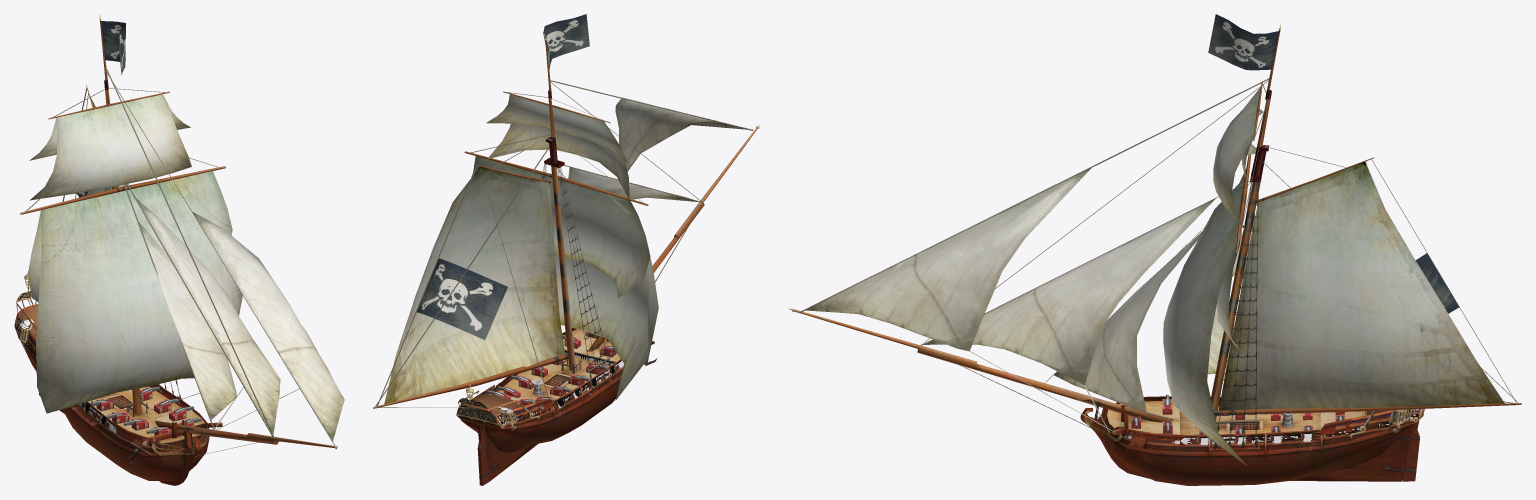
File: sloop1.glb
3 renders of one model, left to right at view 1: azimuth 30°, elevation 25°; view 2: azimuth 150°, elevation 25°; view 3: azimuth 270°, elevation 25°, orthographic. The views are drawn at different scales.
Parts seen in each view (by area): view 1: sail_hull_66_component_00, sail_hull_72_component_00, sail_hull_70_component_00, hull_hull_74, sail_hull_37_component_00, sail_hull_37_component_01, sail_hull_37_component_03, hull_hull_94, sail_hull_68_component_00, sail_furled_hull_44_component_00, flag_hull_102_component_01, sail_hull_112_component_00 (+5 smaller); view 2: sail_hull_31_component_00, hull_hull_74, sail_hull_66_component_00, sail_furled_hull_44_component_00, flag_hull_102_component_00, sail_hull_37_component_00, sail_furled_hull_49_component_00, sail_furled_hull_59_component_00, sail_hull_68_component_00, sail_hull_70_component_00, hull_hull_94, flag_hull_102_component_01 (+10 smaller); view 3: sail_hull_31_component_00, hull_hull_74, sail_hull_37_component_00, sail_hull_37_component_01, sail_hull_72_component_00, sail_hull_37_component_03, hull_hull_94, sail_hull_66_component_00, flag_hull_102_component_01, native_hull_21_component_00, sail_hull_70_component_00, native_hull_81_component_05 (+5 smaller).
Part boxes in pixels (left/top/right/bottom): sail_hull_66_component_00: left=36, top=191, right=242, bottom=386; sail_hull_72_component_00: left=36, top=171, right=242, bottom=413; sail_hull_70_component_00: left=30, top=95, right=188, bottom=200; hull_hull_74: left=14, top=304, right=209, bottom=485; sail_hull_37_component_00: left=192, top=211, right=344, bottom=441; sail_hull_37_component_01: left=136, top=198, right=280, bottom=437; sail_hull_37_component_03: left=139, top=222, right=236, bottom=419; hull_hull_94: left=16, top=291, right=337, bottom=449; sail_hull_68_component_00: left=30, top=102, right=191, bottom=199; sail_furled_hull_44_component_00: left=27, top=203, right=232, bottom=301; flag_hull_102_component_01: left=101, top=21, right=125, bottom=75; sail_hull_112_component_00: left=20, top=166, right=225, bottom=214; sail_hull_31_component_00: left=384, top=166, right=565, bottom=404; hull_hull_74: left=456, top=328, right=624, bottom=481; sail_hull_66_component_00: left=477, top=156, right=658, bottom=400; sail_furled_hull_44_component_00: left=473, top=156, right=650, bottom=297; flag_hull_102_component_00: left=417, top=258, right=507, bottom=339; sail_hull_37_component_00: left=615, top=97, right=746, bottom=171; sail_furled_hull_49_component_00: left=486, top=95, right=627, bottom=163; sail_furled_hull_59_component_00: left=539, top=174, right=650, bottom=279; sail_hull_68_component_00: left=502, top=122, right=629, bottom=199; sail_hull_70_component_00: left=487, top=125, right=629, bottom=197; hull_hull_94: left=458, top=125, right=759, bottom=485; flag_hull_102_component_01: left=543, top=14, right=589, bottom=69; sail_hull_31_component_00: left=1219, top=162, right=1504, bottom=410; hull_hull_74: left=1080, top=396, right=1424, bottom=485; sail_hull_37_component_00: left=805, top=167, right=1091, bottom=351; sail_hull_37_component_01: left=923, top=198, right=1215, bottom=432; sail_hull_72_component_00: left=1163, top=201, right=1246, bottom=465; sail_hull_37_component_03: left=1054, top=222, right=1212, bottom=411; hull_hull_94: left=789, top=308, right=1419, bottom=481; sail_hull_66_component_00: left=1163, top=163, right=1249, bottom=408; flag_hull_102_component_01: left=1208, top=14, right=1279, bottom=70; native_hull_21_component_00: left=1214, top=183, right=1259, bottom=451; sail_hull_70_component_00: left=1213, top=87, right=1260, bottom=209; native_hull_81_component_05: left=1211, top=182, right=1260, bottom=398.
Bounding box in the file's own units: 10 × 20.41 × 29.63.
Materials: 75 (75 with a texture image).
